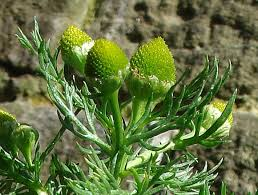pineple: (134, 49, 226, 137)
